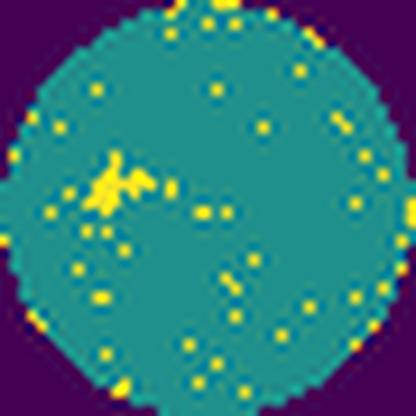Loc: (79, 146, 156, 216)
